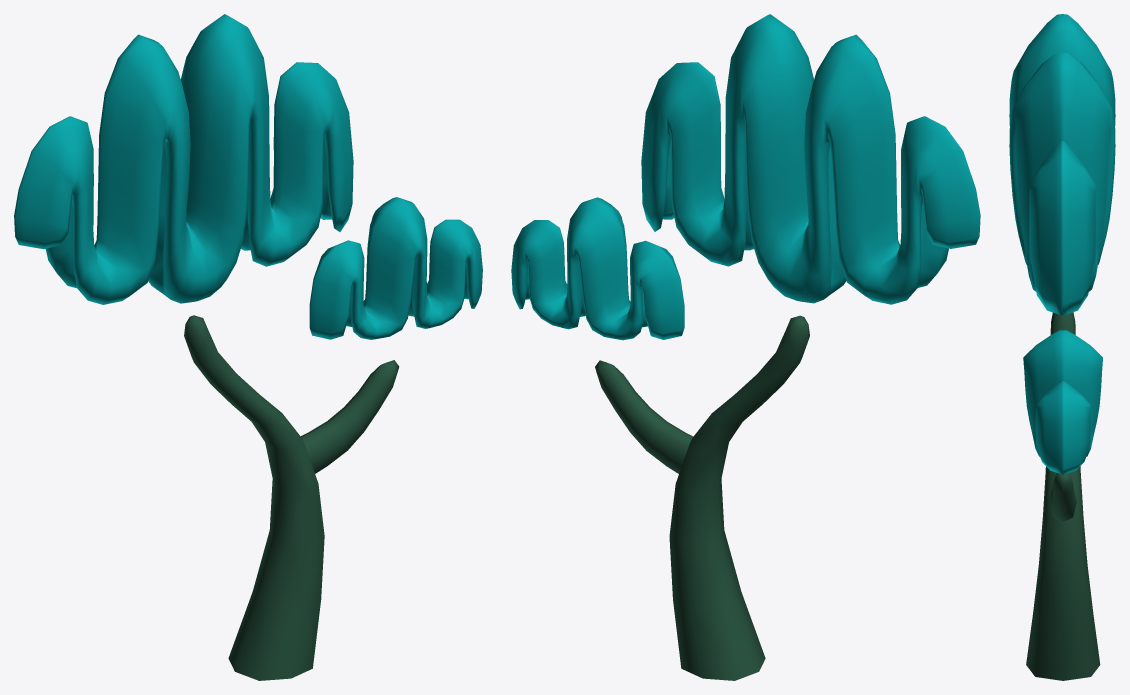
Rendered from Tree Floating 3.glb.
3 renders of one model, left to right at view 1: azimuth 30°, elevation 25°; view 2: azimuth 150°, elevation 25°; view 3: azimuth 270°, elevation 25°, orthographic. The views are drawn at different scales.
Parts seen in each view (by area): view 1: Tree_Floating_3; view 2: Tree_Floating_3; view 3: Tree_Floating_3.
Boxes of the visible parts, bbox=[...] form: Tree_Floating_3: bbox=[14, 14, 482, 680]; Tree_Floating_3: bbox=[511, 14, 980, 680]; Tree_Floating_3: bbox=[1009, 14, 1115, 680].
Size of the model in its own units: 3.87 by 5.21 by 0.843.
Materials: 1 (1 with a texture image).
